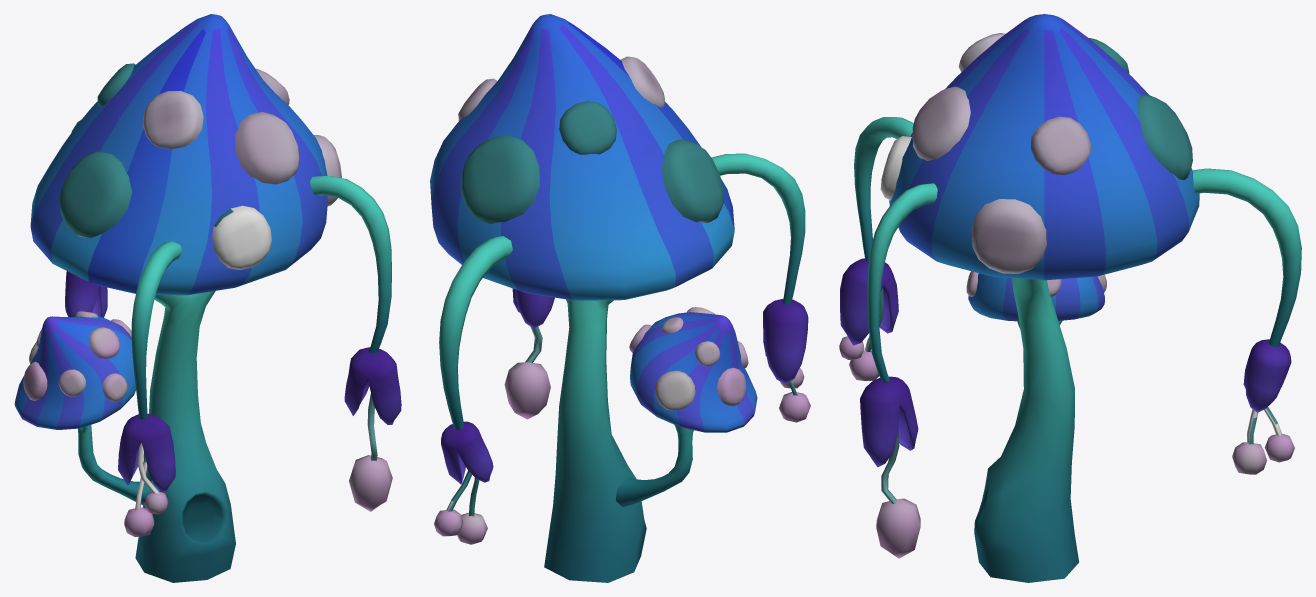
File: Plant_tree_03.fbx
3 views of the same model, side by side, from view 1: azimuth 30°, elevation 25°; view 2: azimuth 150°, elevation 25°; view 3: azimuth 270°, elevation 25° (orthographic). The views are drawn at different scales.
Parts seen in each view (by area): view 1: plant_tree_03; view 2: plant_tree_03; view 3: plant_tree_03.
Boxes of the visible parts, box(x1,y1,x2,y2) form: plant_tree_03: box(14, 14, 401, 582); plant_tree_03: box(430, 14, 810, 582); plant_tree_03: box(839, 14, 1301, 582).
Bounding box in the file's own units: 266 × 450 × 333.
